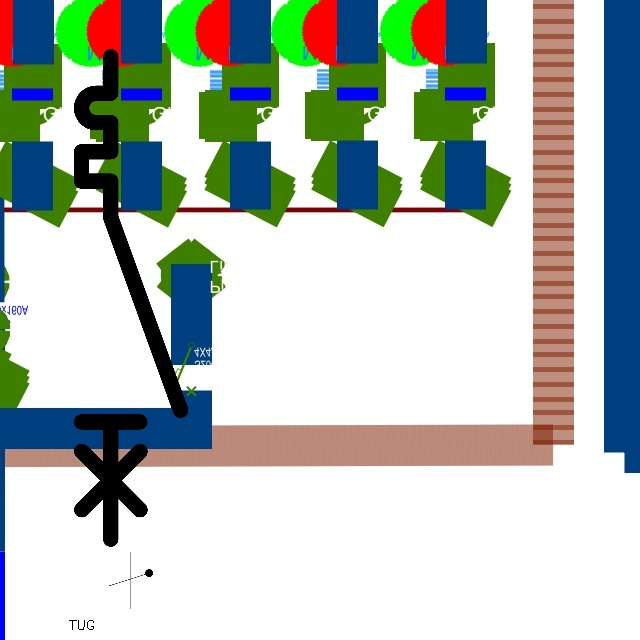interruptor_termomagnetico: (69, 44, 193, 551)
